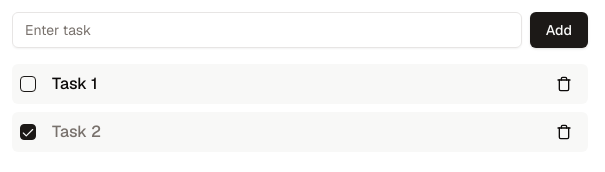
TodoList › deletes a task
Click the button named "Delete task" in the row of "Task 1" at (564, 84), box [544,68,584,100]
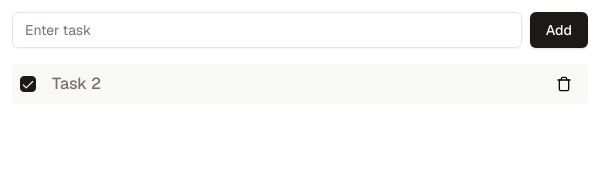
Check: the text "Task 1" is gone
